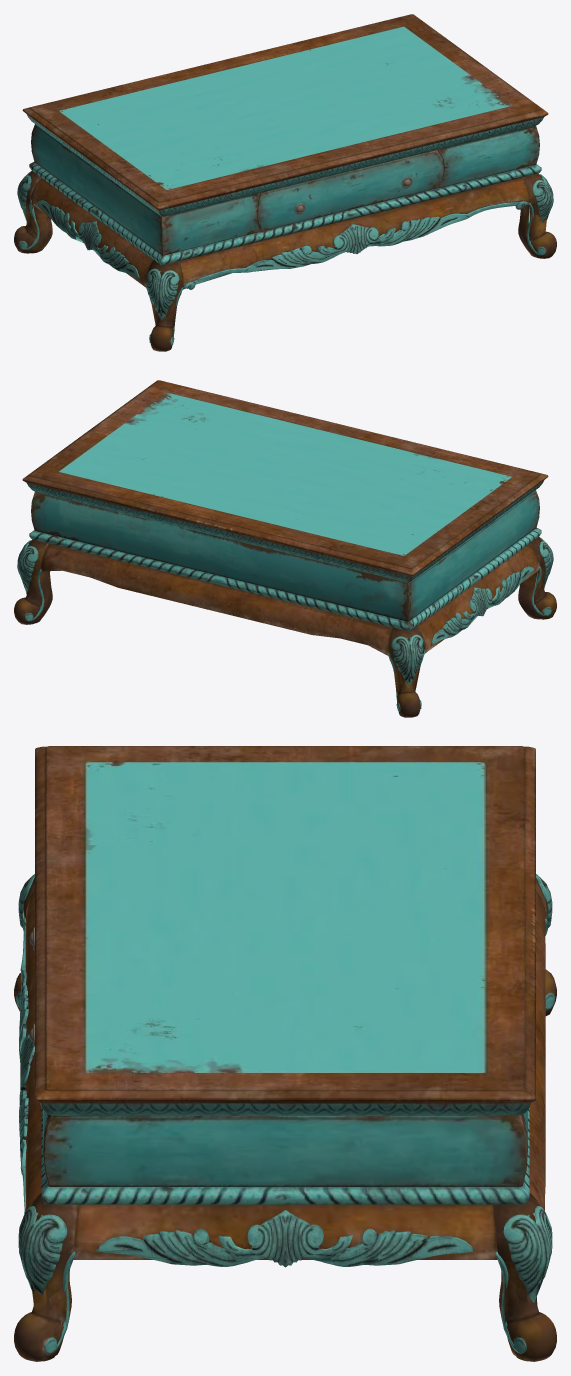
The model's file is CoffeeTable_01.glb.
The picture shows the model from 3 angles, top to bottom: view 1: azimuth 30°, elevation 25°; view 2: azimuth 150°, elevation 25°; view 3: azimuth 270°, elevation 25°; orthographic projection. The views are drawn at different scales.
Visible parts, largest first — view 1: CoffeeTable_01, CoffeeTable_01_lo; view 2: CoffeeTable_01, CoffeeTable_01_lo; view 3: CoffeeTable_01, CoffeeTable_01_lo.
Part boxes in pixels (left/top/right/bottom): CoffeeTable_01: left=14, top=14, right=556, bottom=351; CoffeeTable_01_lo: left=23, top=150, right=549, bottom=349; CoffeeTable_01: left=14, top=380, right=556, bottom=717; CoffeeTable_01_lo: left=21, top=480, right=547, bottom=693; CoffeeTable_01: left=14, top=746, right=556, bottom=1361; CoffeeTable_01_lo: left=19, top=901, right=547, bottom=1323.
Bounding box in the file's own units: 1.54 × 0.5232 × 0.9728.
Materials: 1 (1 with a texture image).
